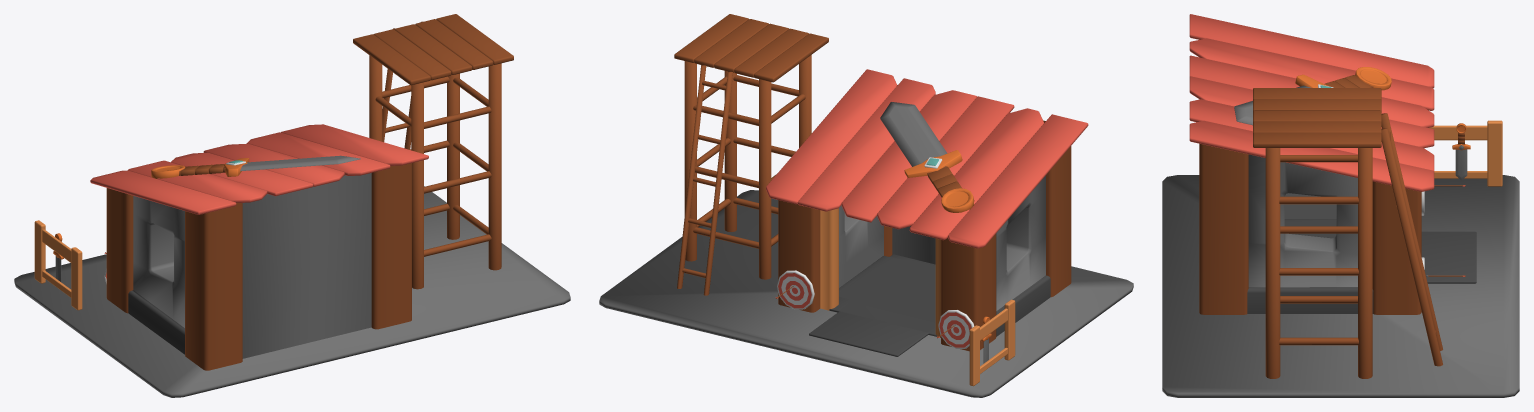
Rendered from Barrack Level2.fbx.
The picture shows the model from 3 angles, left to right: view 1: azimuth 30°, elevation 25°; view 2: azimuth 150°, elevation 25°; view 3: azimuth 270°, elevation 25°; orthographic projection. The views are drawn at different scales.
Parts seen in each view (by area): view 1: Cube.168; view 2: Cube.168; view 3: Cube.168.
Boxes of the visible parts, left/top/right/bottom form: Cube.168: left=14, top=14, right=570, bottom=397; Cube.168: left=599, top=14, right=1133, bottom=397; Cube.168: left=1162, top=14, right=1519, bottom=397.
Size of the model in its own units: 295 by 153 by 203.
